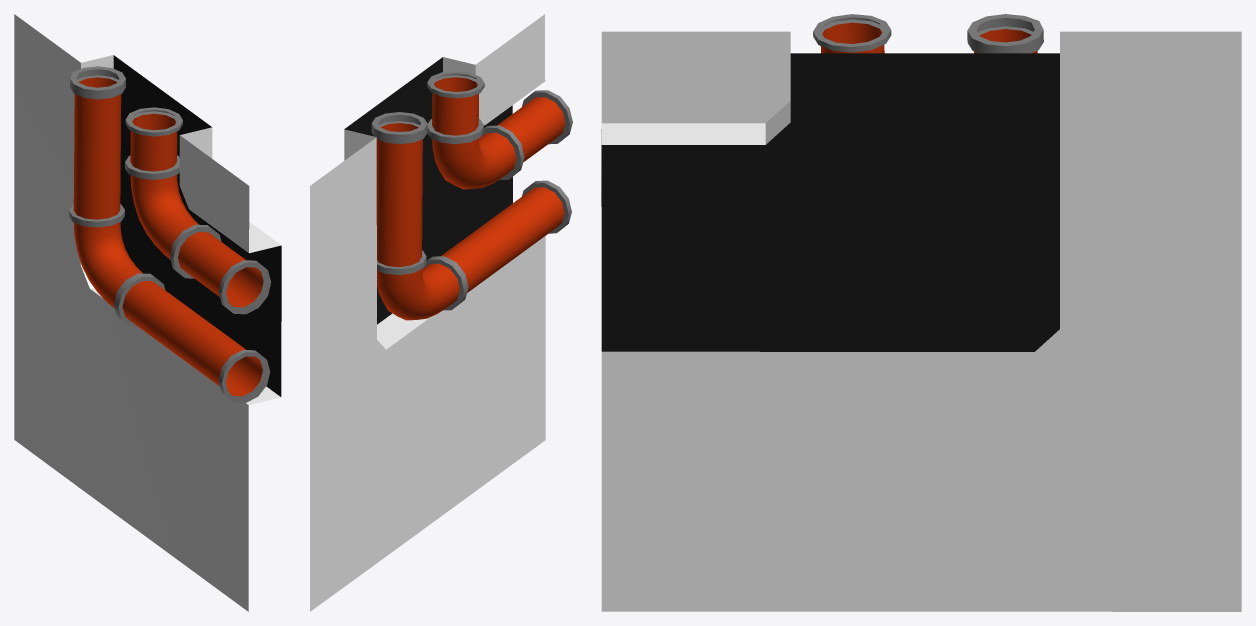
File: S_assete_basement_wall_midel_6.fbx
The picture shows the model from 3 angles, left to right: view 1: azimuth 30°, elevation 25°; view 2: azimuth 150°, elevation 25°; view 3: azimuth 270°, elevation 25°; orthographic projection. The views are drawn at different scales.
Visible parts, largest first — view 1: S_assete_basement_wall_008; view 2: S_assete_basement_wall_008; view 3: S_assete_basement_wall_008.
Part boxes in pixels (x1,y1,x2,y2): S_assete_basement_wall_008: (14, 14, 281, 611); S_assete_basement_wall_008: (310, 14, 572, 611); S_assete_basement_wall_008: (601, 14, 1241, 611).
Bounding box in the file's own units: 29.69 × 200 × 200.
